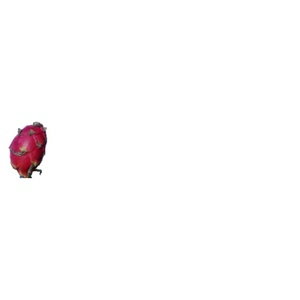pitaia: (9, 123, 47, 179)
